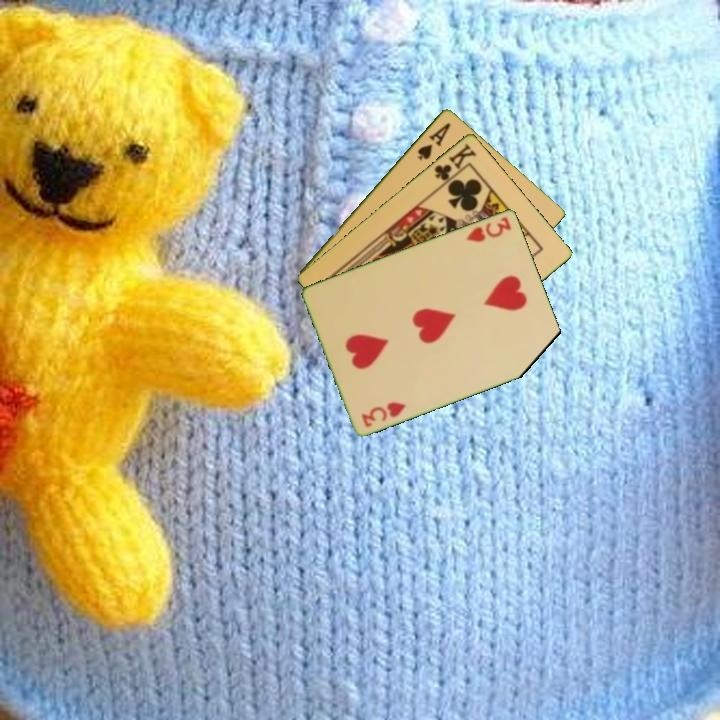3h: (463, 213, 514, 245), (358, 398, 409, 430)
As: (414, 119, 453, 163)
Kc: (431, 139, 479, 189)
